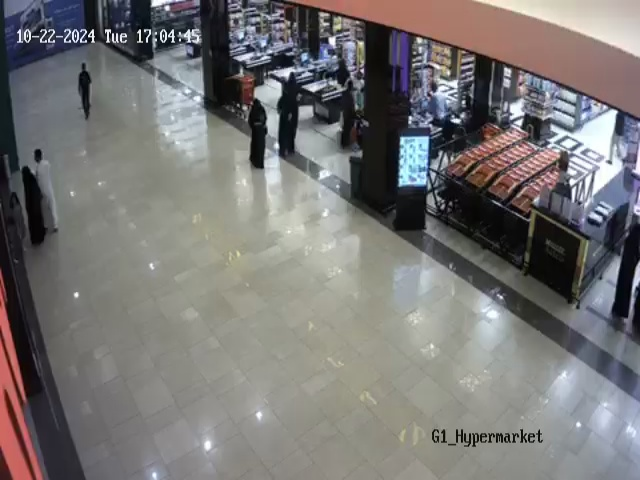female: (610, 209, 640, 321), (276, 72, 303, 157), (21, 166, 47, 246), (247, 97, 268, 170)
male: (34, 149, 59, 234), (339, 78, 357, 152), (78, 62, 92, 119)
